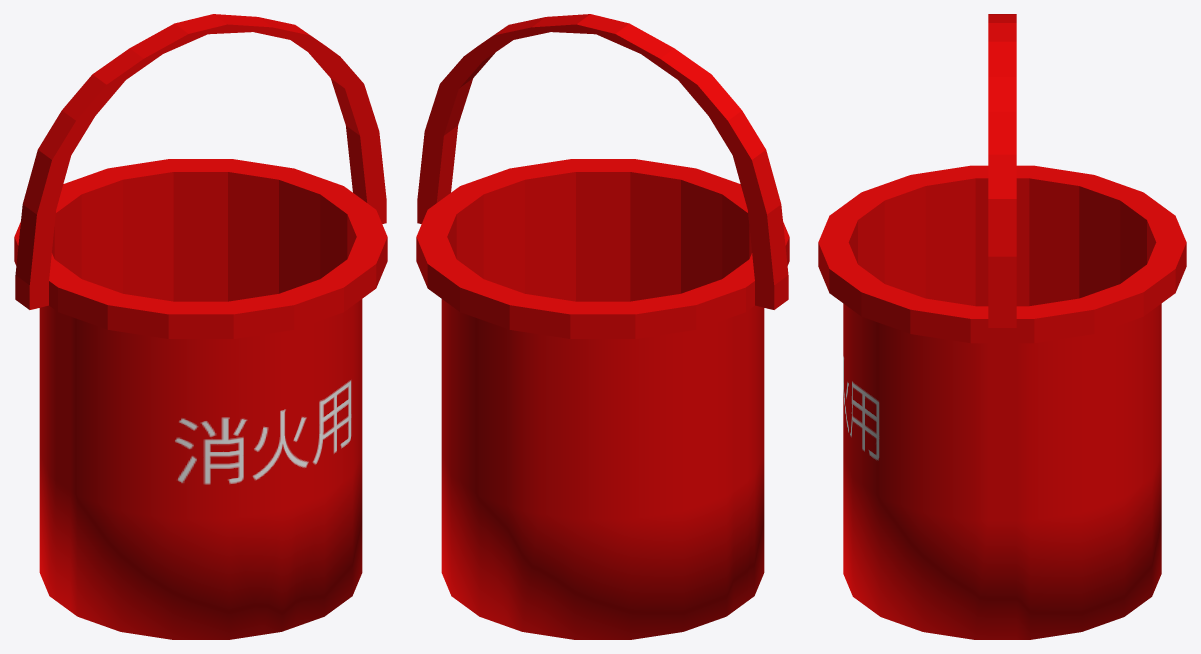
File: bucket.FBX
3 views of the same model, side by side, from view 1: azimuth 30°, elevation 25°; view 2: azimuth 150°, elevation 25°; view 3: azimuth 270°, elevation 25° (orthographic).
Parts seen in each view (by area): view 1: Cylinder001; view 2: Cylinder001; view 3: Cylinder001.
Boxes of the visible parts, x1,y1,x2,y2 form: Cylinder001: (14,14,387,639); Cylinder001: (416,14,789,639); Cylinder001: (818,14,1186,639).
Bounding box in the file's own units: 64.38 × 96.01 × 58.36.
Materials: 1 (1 with a texture image).
